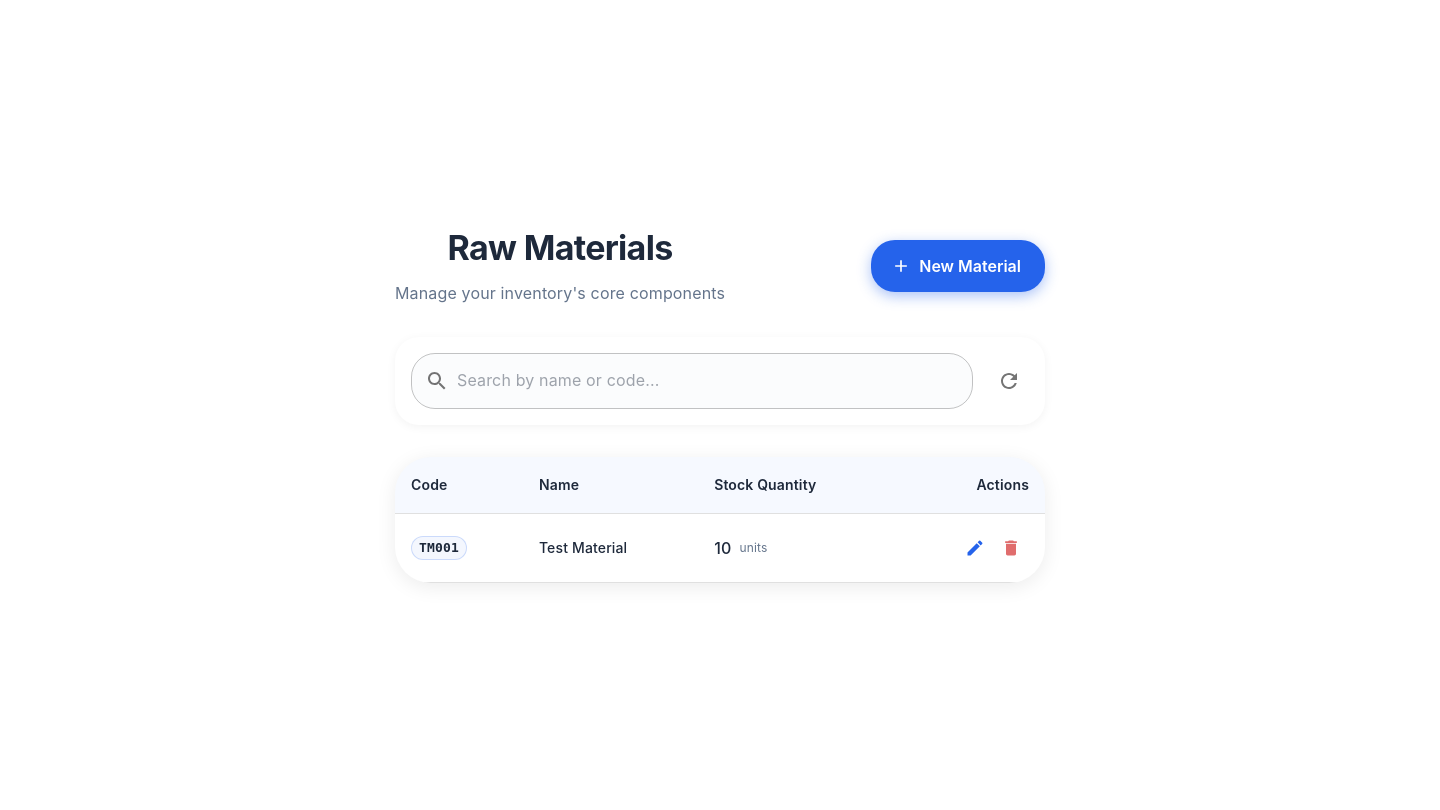
Test case: RawMaterialsPage › opens add material dialog and submits successfully
This screenshot has width=1440, height=810.
// Click New Material
Click the button "New Material" at (958, 266), box [871,240,1045,292]
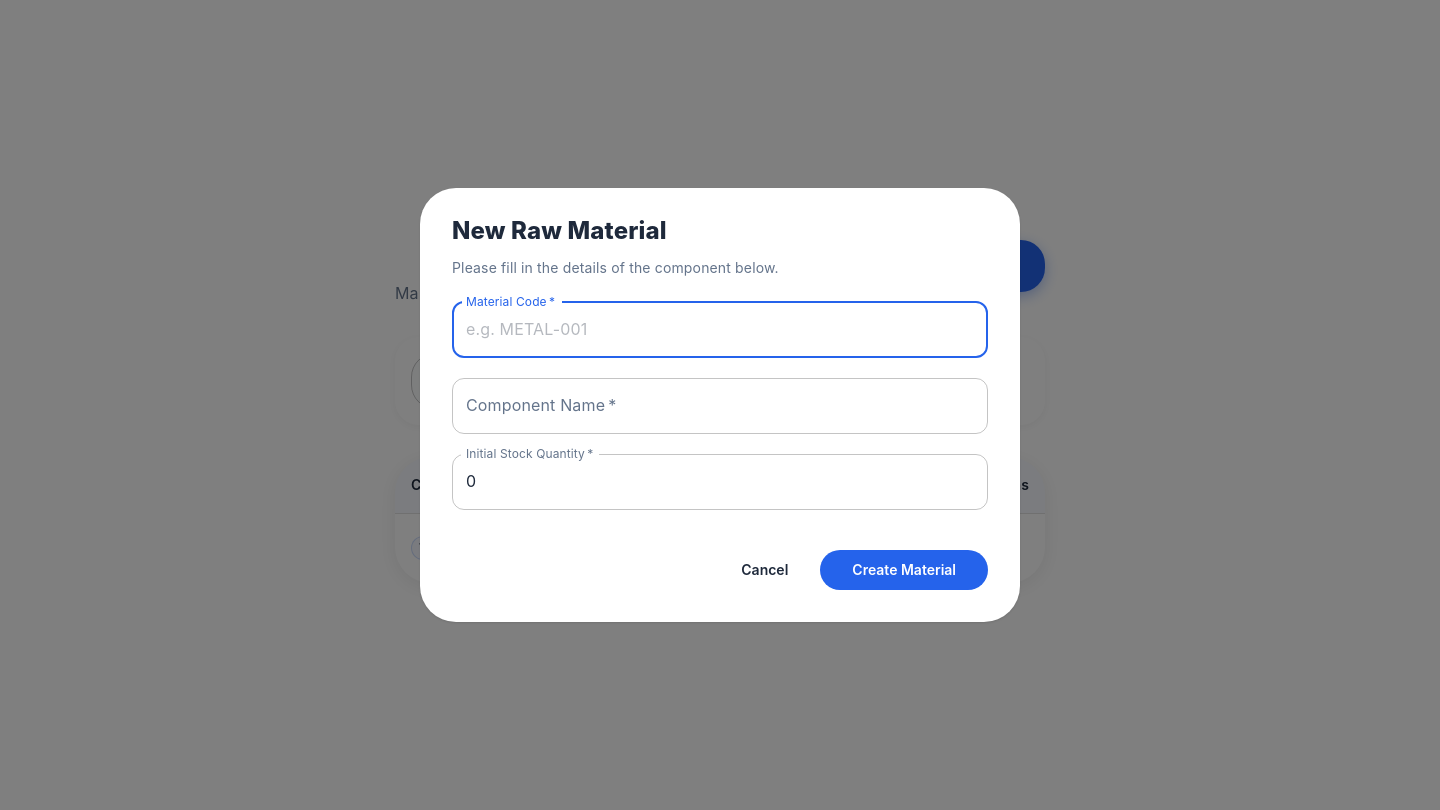
Type "New Steel" into the field labelled "Component Name *" at (720, 406), box [452,378,988,434]
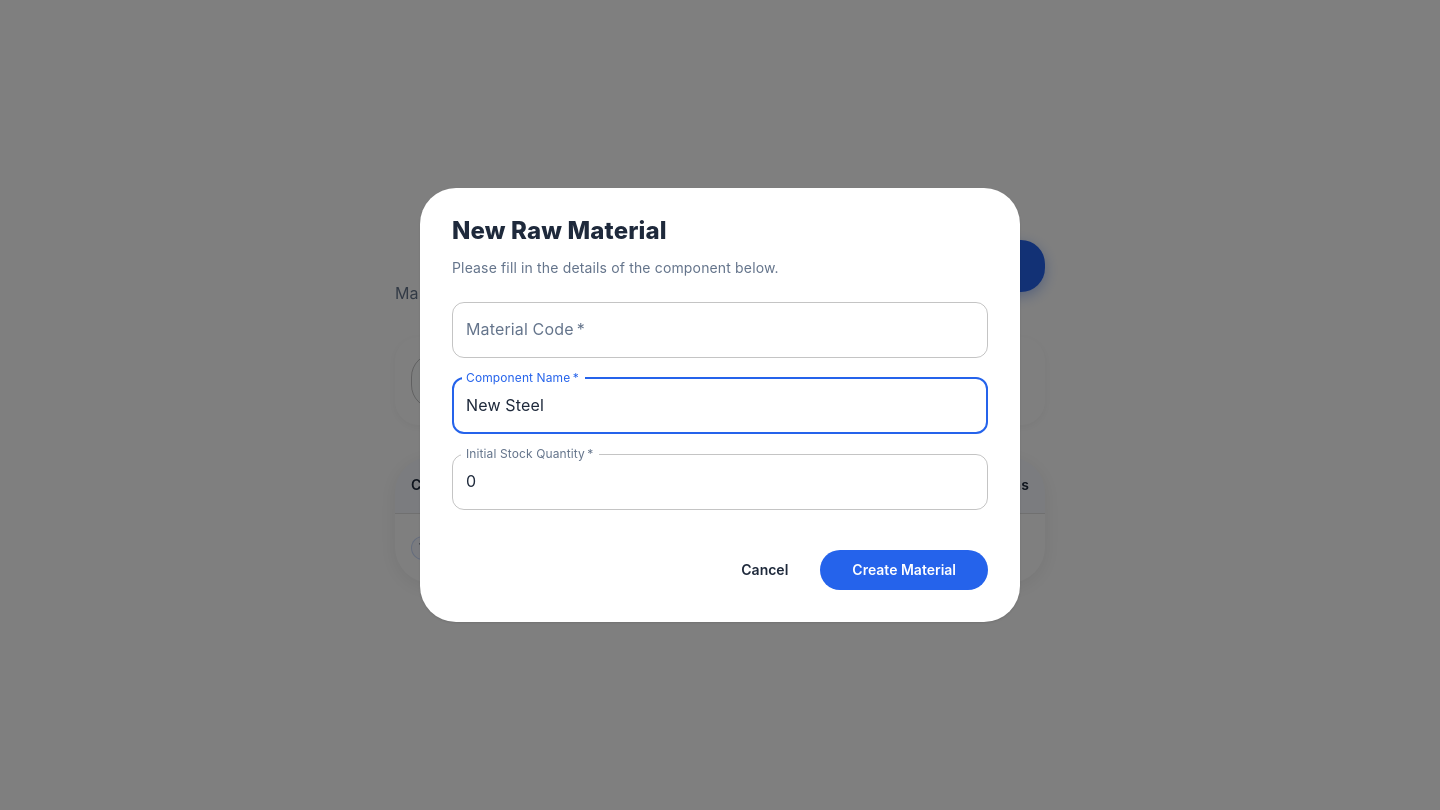
Type "ST001" into the field labelled "Material Code *" at (720, 330), box [452,302,988,358]
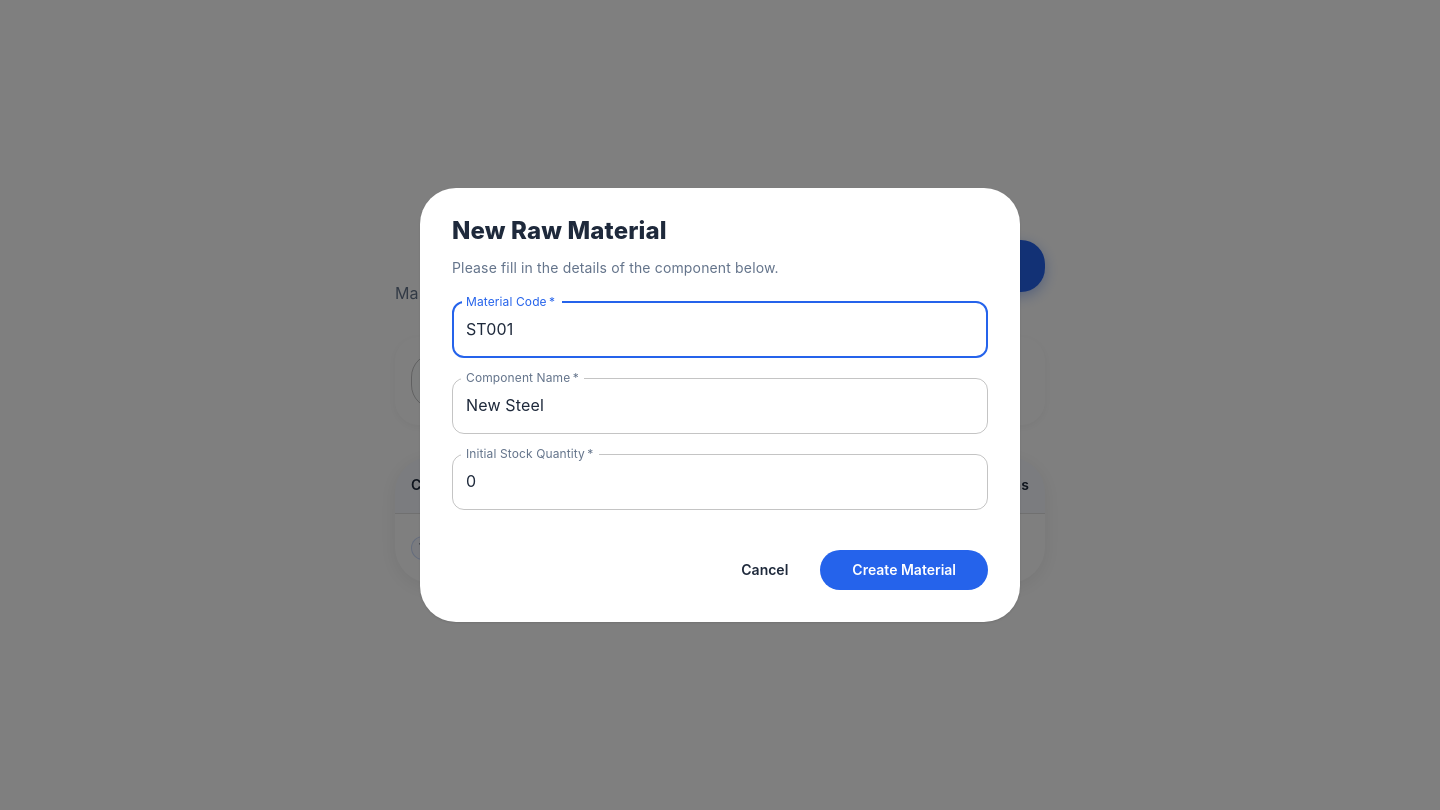
Replace the text in the number field labelled "Initial Stock Quantity *" with "100" at (720, 482), box [452,454,988,510]
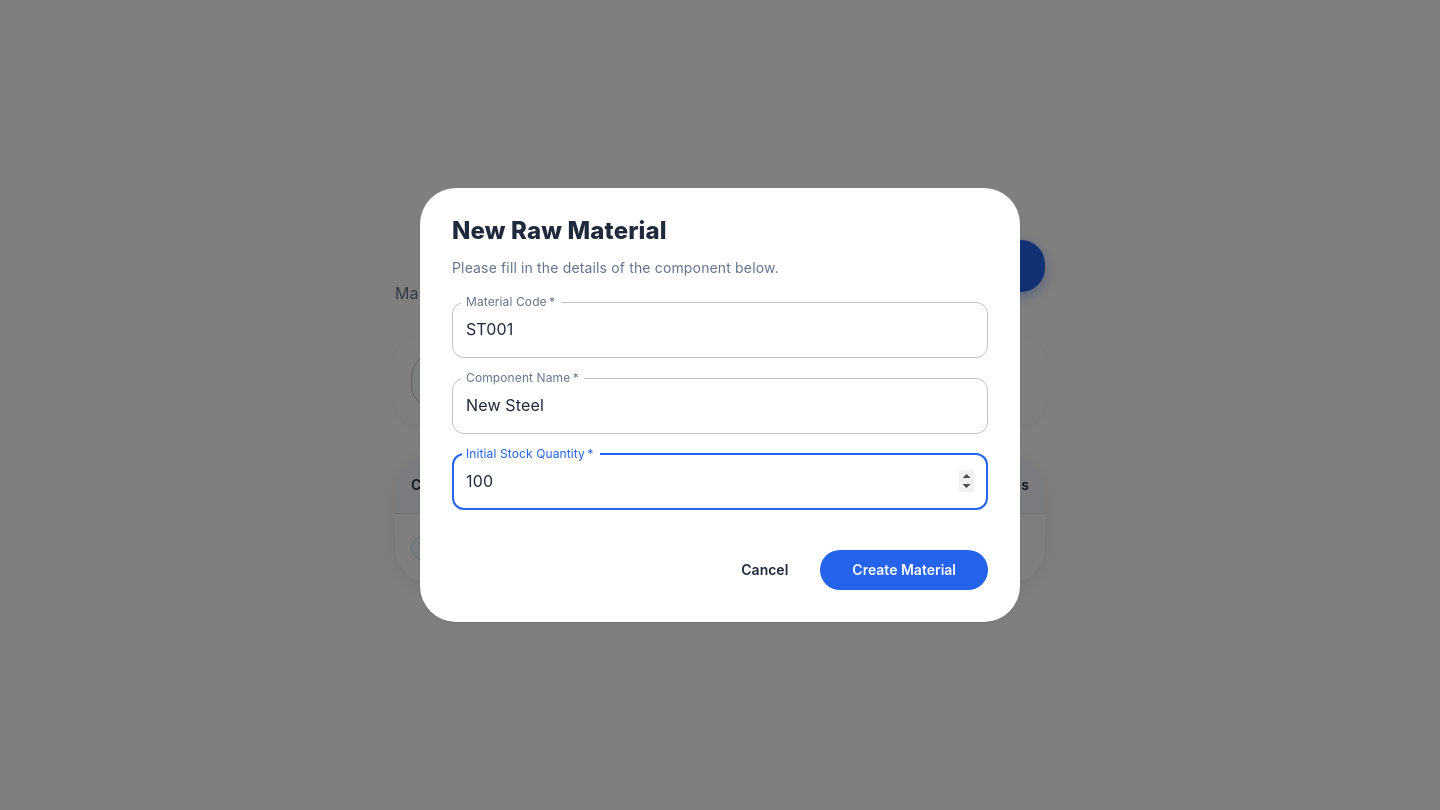
Click the button "Create Material" at (904, 570), box [820,550,988,590]
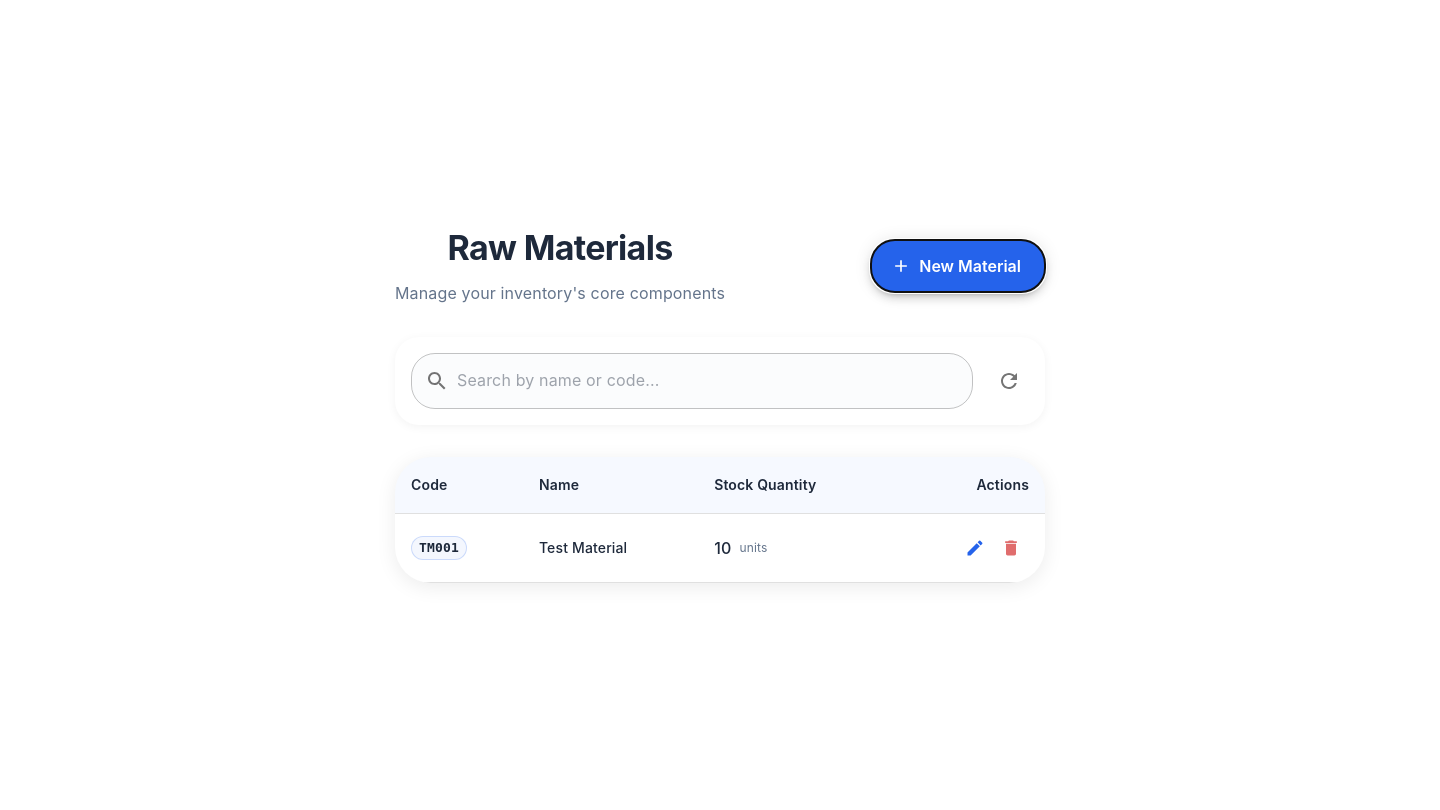
Now the heading "New Raw Material" is gone
